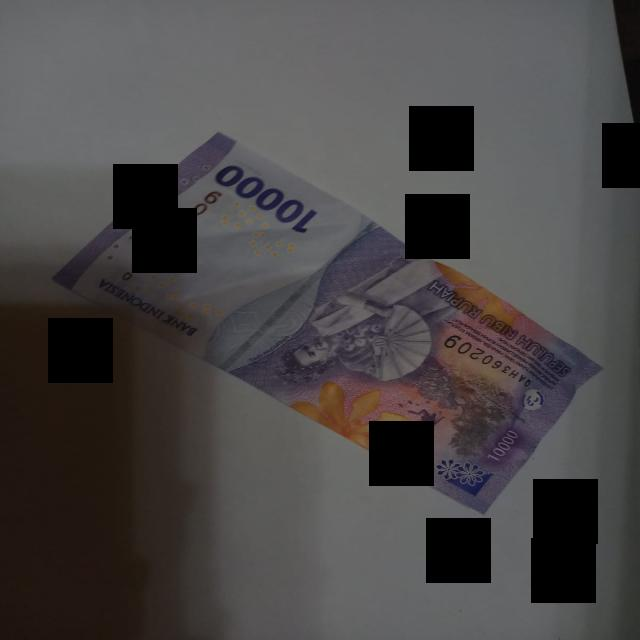sepuluhribu rupiah: (53, 134, 600, 512)
